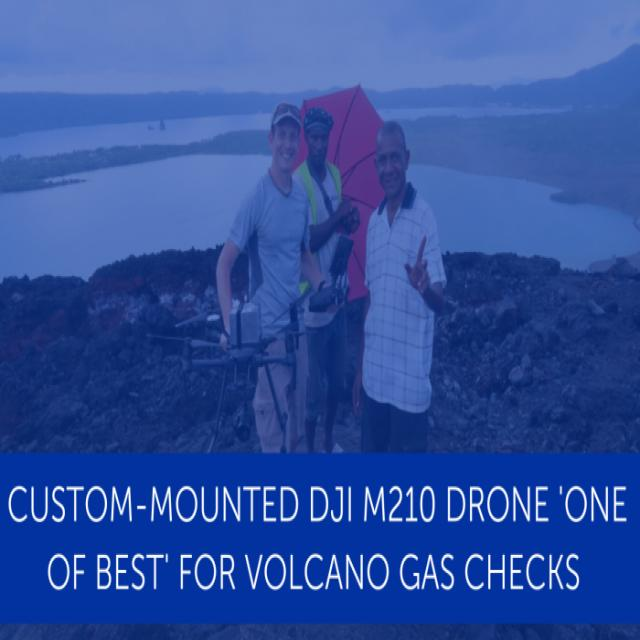drone: (159, 297, 314, 389)
